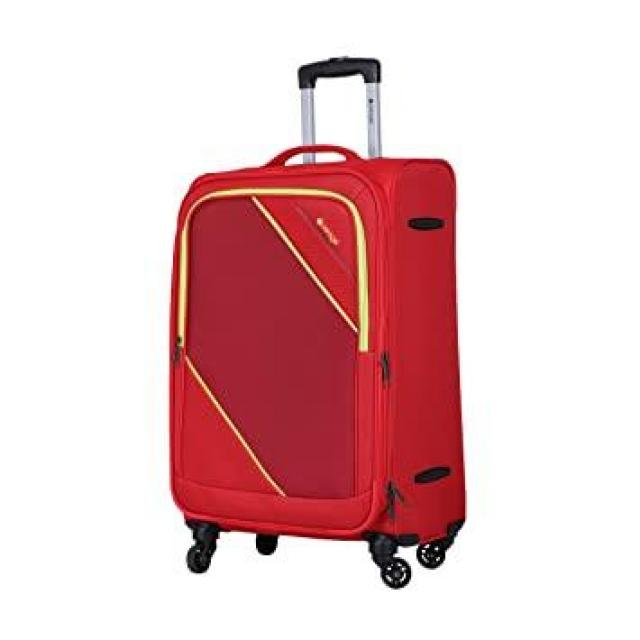luggage: (157, 140, 476, 564)
